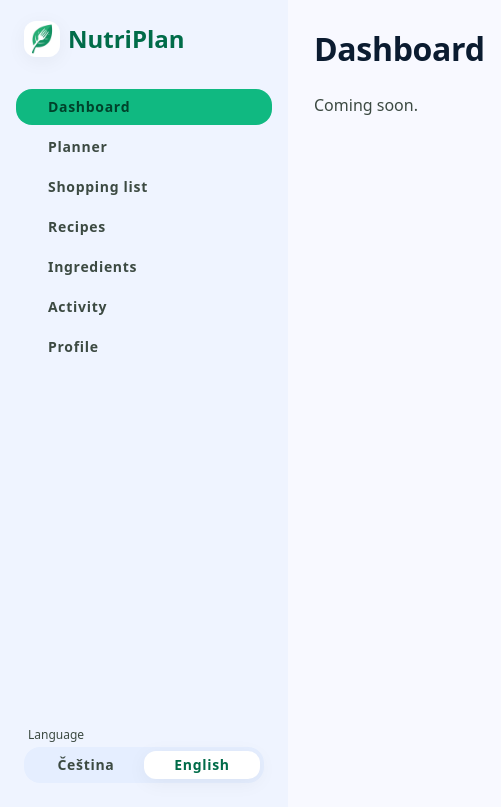
it: AppShell › moves focus to the content after navigating
Expected: the heading "Dashboard" is shown, x1=314 y1=29 x2=485 y2=69
Click the link "Recipes" at coordinates (77, 226), box x1=48 y1=217 x2=106 y2=236
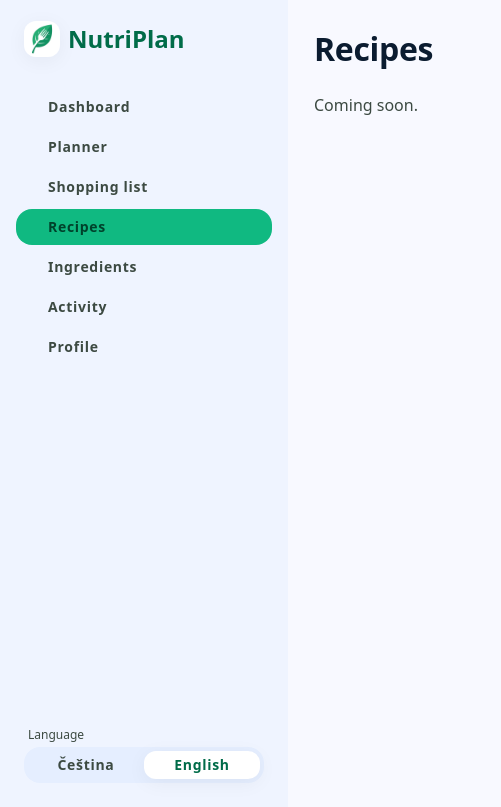
Expected: the heading "Recipes" is shown, x1=314 y1=29 x2=433 y2=69
